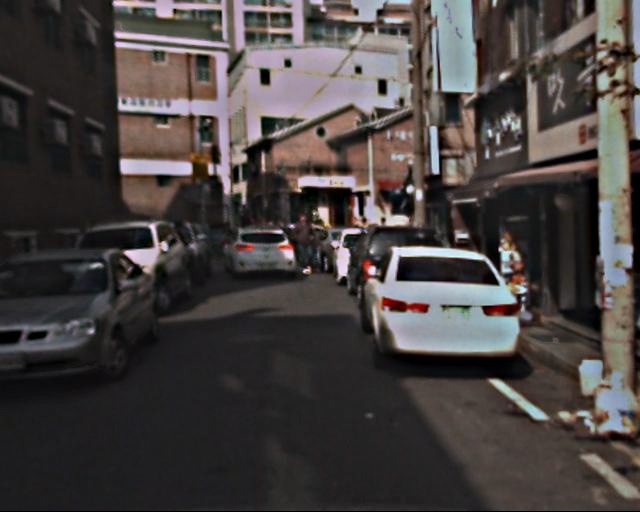person: (289, 212, 315, 275), (303, 221, 324, 273)
